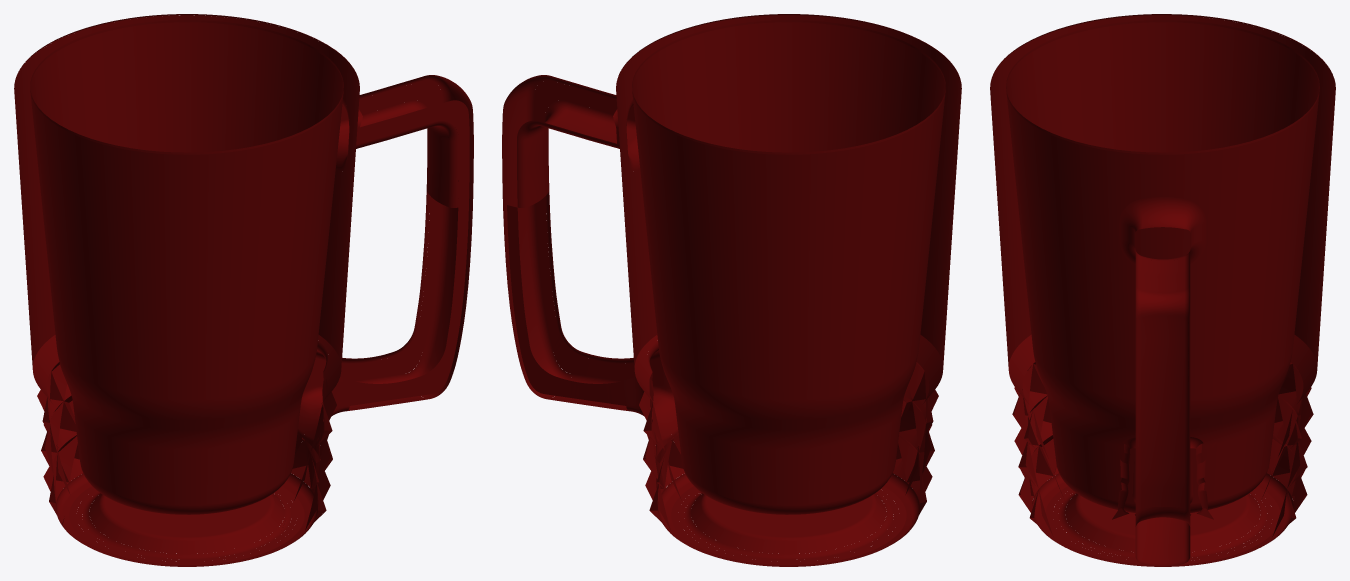
File: CM-MUG034.glb
The picture shows the model from 3 angles, left to right: view 1: azimuth 30°, elevation 25°; view 2: azimuth 150°, elevation 25°; view 3: azimuth 270°, elevation 25°; orthographic projection.
Parts seen in each view (by area): view 1: Mesh_92.002, Mesh_273, Mesh_1.002, Mesh_0.003, Mesh_164, Mesh_52.002, Mesh_240, Mesh_15.002, Mesh_53.002, Mesh_465, Mesh_73.002, Mesh_463 (+16 smaller); view 2: Mesh_92.002, Mesh_273, Mesh_0.003, Mesh_1.002, Mesh_164, Mesh_15.002, Mesh_52.002, Mesh_240, Mesh_73.002, Mesh_465, Mesh_53.002, Mesh_463 (+15 smaller); view 3: Mesh_92.002, Mesh_273, Mesh_1.002, Mesh_0.003, Mesh_15.002, Mesh_54.002, Mesh_164, Mesh_240, Mesh_97.002, Mesh_463, Mesh_465, Mesh_51.002 (+18 smaller).
Part boxes in pixels (x1=…): Mesh_92.002: x1=30, y1=22, x2=343, y2=399; Mesh_273: x1=73, y1=405, x2=300, y2=505; Mesh_1.002: x1=14, y1=15, x2=336, y2=366; Mesh_0.003: x1=320, y1=52, x2=359, y2=367; Mesh_164: x1=57, y1=349, x2=316, y2=420; Mesh_52.002: x1=404, y1=197, x2=472, y2=399; Mesh_240: x1=69, y1=389, x2=304, y2=449; Mesh_15.002: x1=339, y1=100, x2=458, y2=207; Mesh_53.002: x1=350, y1=205, x2=468, y2=405; Mesh_465: x1=104, y1=496, x2=269, y2=536; Mesh_73.002: x1=322, y1=196, x2=440, y2=385; Mesh_463: x1=89, y1=493, x2=284, y2=553; Mesh_92.002: x1=632, y1=22, x2=945, y2=399; Mesh_273: x1=675, y1=405, x2=902, y2=505; Mesh_0.003: x1=639, y1=15, x2=961, y2=366; Mesh_1.002: x1=616, y1=52, x2=655, y2=367; Mesh_164: x1=659, y1=349, x2=918, y2=420; Mesh_15.002: x1=517, y1=100, x2=636, y2=207; Mesh_52.002: x1=503, y1=189, x2=571, y2=399; Mesh_240: x1=671, y1=389, x2=906, y2=449; Mesh_73.002: x1=507, y1=205, x2=625, y2=405; Mesh_465: x1=706, y1=496, x2=871, y2=536; Mesh_53.002: x1=535, y1=196, x2=653, y2=385; Mesh_463: x1=691, y1=493, x2=886, y2=553; Mesh_92.002: x1=1006, y1=22, x2=1319, y2=398; Mesh_273: x1=1049, y1=407, x2=1276, y2=503; Mesh_1.002: x1=1163, y1=15, x2=1335, y2=366; Mesh_0.003: x1=990, y1=15, x2=1162, y2=366; Mesh_15.002: x1=1135, y1=251, x2=1190, y2=384; Mesh_54.002: x1=1135, y1=381, x2=1190, y2=459; Mesh_164: x1=1033, y1=351, x2=1292, y2=418; Mesh_240: x1=1046, y1=391, x2=1279, y2=446; Mesh_97.002: x1=1135, y1=455, x2=1190, y2=511; Mesh_463: x1=1065, y1=493, x2=1260, y2=552; Mesh_465: x1=1080, y1=496, x2=1245, y2=534; Mesh_51.002: x1=1006, y1=20, x2=1319, y2=154.
Size of the model in its own units: 0.0801 by 0.0767 by 0.056.
